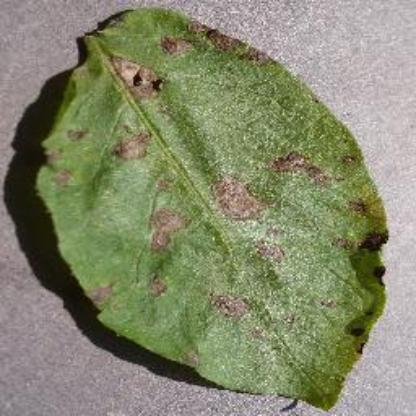Early-Blight: (27, 6, 391, 410)
